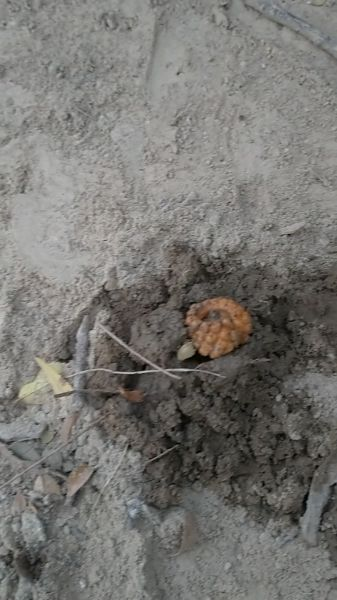eggs: (182, 293, 255, 361)
